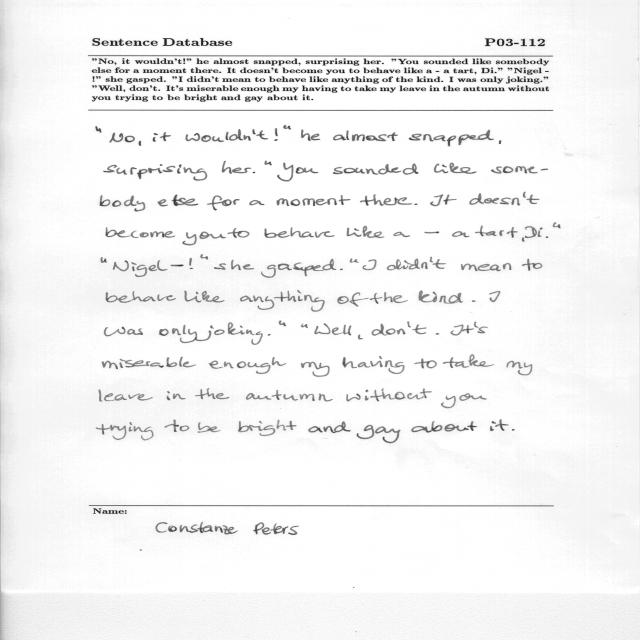word: (240, 290, 325, 312), (104, 164, 207, 181), (261, 259, 336, 278), (409, 130, 494, 146), (209, 357, 286, 374), (102, 357, 196, 369), (214, 322, 263, 345), (346, 389, 432, 402), (343, 356, 405, 374), (186, 129, 268, 142), (96, 422, 154, 440), (159, 325, 214, 343), (470, 192, 540, 206), (246, 390, 333, 401), (238, 420, 297, 436), (333, 164, 418, 175), (113, 260, 167, 277), (106, 291, 176, 303), (277, 195, 351, 206), (357, 425, 401, 443), (411, 421, 477, 433), (277, 163, 318, 182), (265, 227, 335, 238), (387, 257, 446, 270), (106, 227, 175, 238), (436, 322, 488, 336), (101, 195, 146, 211), (333, 131, 398, 142), (441, 394, 487, 409), (443, 355, 494, 368), (99, 390, 153, 402), (418, 290, 463, 304), (360, 194, 412, 206), (182, 232, 226, 246), (372, 321, 412, 336), (475, 225, 518, 238), (308, 421, 351, 433), (207, 196, 240, 211), (158, 195, 199, 207), (184, 291, 225, 303), (315, 323, 352, 336), (337, 292, 369, 307), (434, 163, 477, 174), (301, 361, 330, 377), (491, 166, 548, 174), (370, 292, 408, 304), (347, 226, 384, 238), (461, 263, 512, 271), (214, 260, 254, 270), (104, 327, 143, 337), (507, 361, 533, 376), (195, 389, 230, 400), (222, 161, 251, 174), (430, 195, 457, 207), (165, 420, 190, 432), (109, 133, 135, 143), (198, 422, 221, 433), (522, 259, 542, 271), (414, 359, 437, 369), (228, 228, 250, 238), (525, 226, 543, 238), (301, 130, 320, 141), (490, 420, 509, 431), (152, 132, 171, 142), (167, 391, 186, 400), (363, 259, 377, 270), (413, 325, 427, 335), (489, 291, 500, 302), (452, 231, 469, 237), (394, 232, 411, 237), (250, 200, 265, 205), (274, 128, 278, 141), (553, 223, 561, 229), (350, 258, 359, 263), (189, 258, 193, 269), (283, 125, 291, 130), (200, 255, 208, 260), (101, 257, 107, 263), (96, 126, 101, 133), (279, 321, 286, 326), (265, 161, 272, 165), (425, 232, 439, 234), (301, 324, 308, 328), (171, 265, 184, 267), (358, 335, 363, 340), (522, 237, 525, 242), (139, 141, 141, 146), (499, 140, 501, 144), (472, 300, 476, 302), (268, 334, 271, 336), (546, 236, 548, 238), (512, 429, 514, 431), (415, 204, 418, 205), (340, 269, 343, 270), (253, 172, 255, 173)
